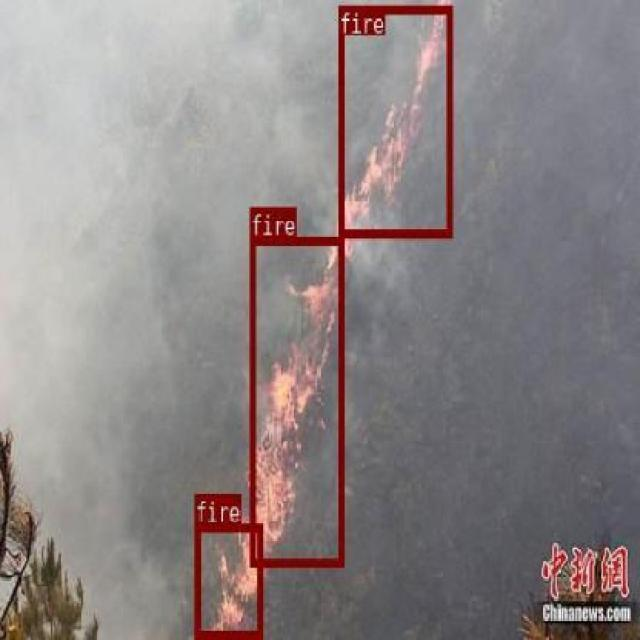Fire: (236, 270, 352, 555), (358, 50, 446, 245), (205, 522, 257, 634)
Smoke: (0, 0, 625, 640)
